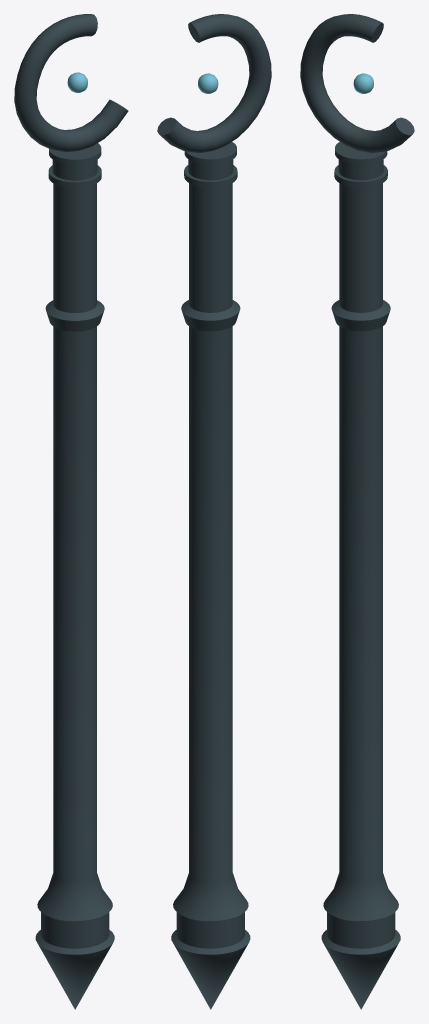
The model's file is MagicStick.fbx.
The picture shows the model from 3 angles, left to right: view 1: azimuth 30°, elevation 25°; view 2: azimuth 210°, elevation 25°; view 3: azimuth 330°, elevation 25°; orthographic projection.
Visible parts, largest first — view 1: Cone; view 2: Cone; view 3: Cone.
Boxes of the visible parts, x1,y1,x2,y2 form: Cone: (14,14,128,1009); Cone: (157,14,271,1009); Cone: (300,14,414,1009).
Bounding box in the file's own units: 172 × 1467 × 106.
